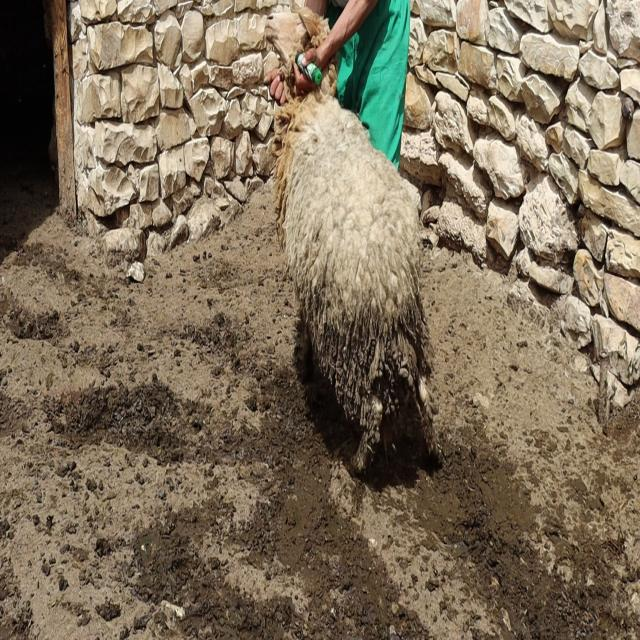Score_2: (274, 89, 440, 473)
